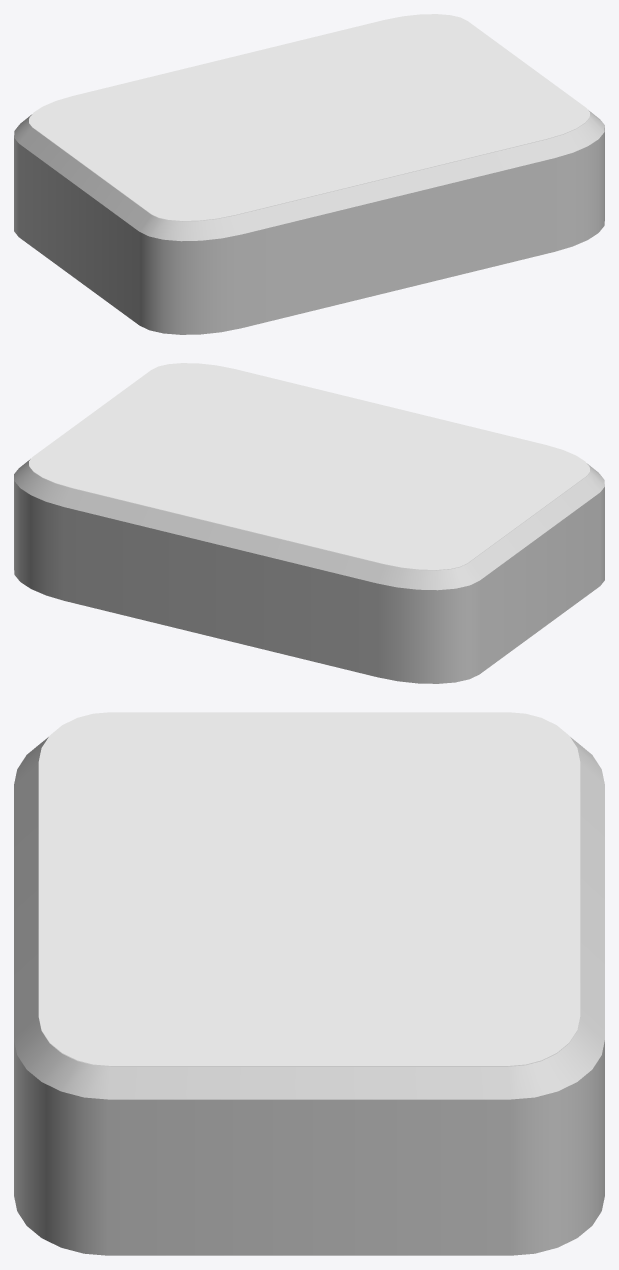
The model's file is mahjong-piece-single (4).fbx.
3 views of the same model, one above another, from view 1: azimuth 30°, elevation 25°; view 2: azimuth 150°, elevation 25°; view 3: azimuth 270°, elevation 25° (orthographic). The views are drawn at different scales.
Parts seen in each view (by area): view 1: Mahjong Piece, Object Fill; view 2: Mahjong Piece, Object Fill; view 3: Object Fill, Mahjong Piece.
Part boxes in pixels (x1,y1,x2,y2): Mahjong Piece: (14, 110, 604, 334); Object Fill: (29, 14, 589, 220); Mahjong Piece: (14, 459, 604, 683); Object Fill: (29, 363, 589, 569); Object Fill: (38, 712, 580, 1065); Mahjong Piece: (14, 737, 604, 1255).
Size of the model in its own units: 1.8 by 0.4018 by 1.2.
Materials: 2 (1 with a texture image).
